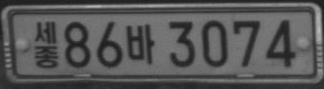0: (201, 19, 228, 67)
3: (168, 20, 195, 67)
4: (265, 19, 296, 67)
6: (95, 21, 123, 67)
7: (232, 19, 260, 67)
8: (63, 20, 91, 68)
바: (126, 23, 155, 64)
세종_V: (32, 21, 59, 68)
